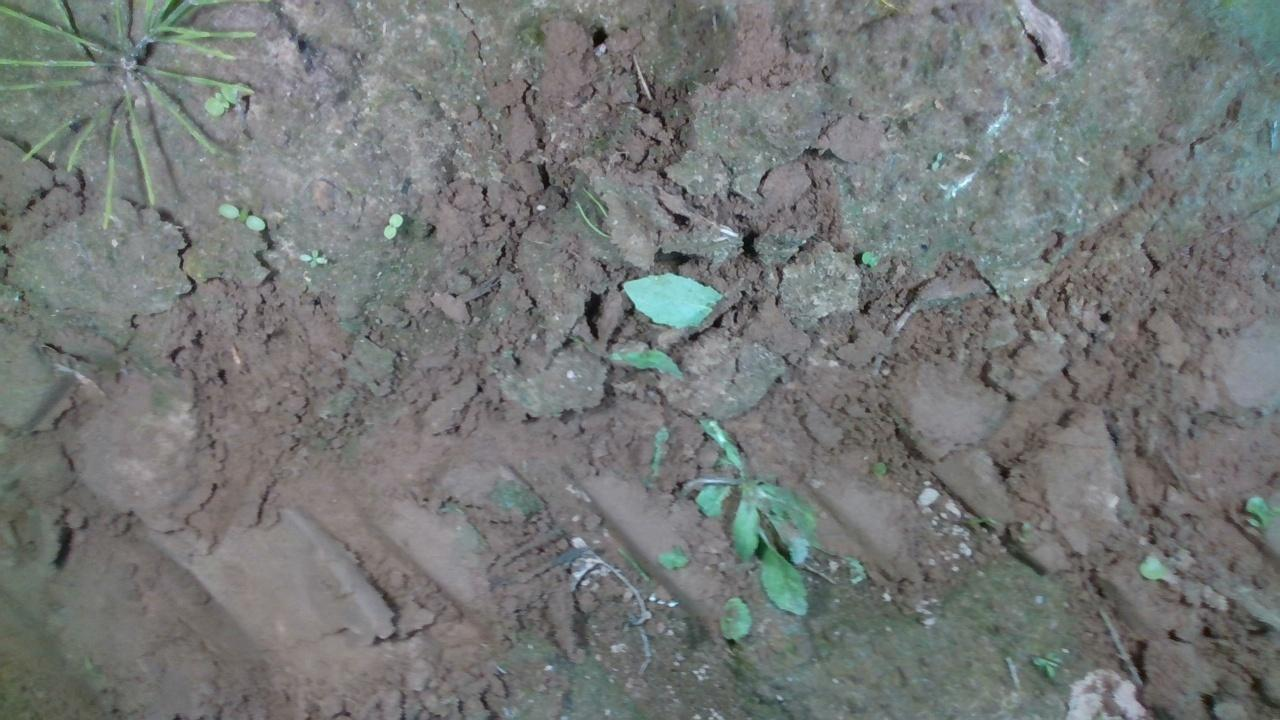weed: (359, 204, 408, 248), (211, 202, 269, 236), (288, 245, 325, 264)
